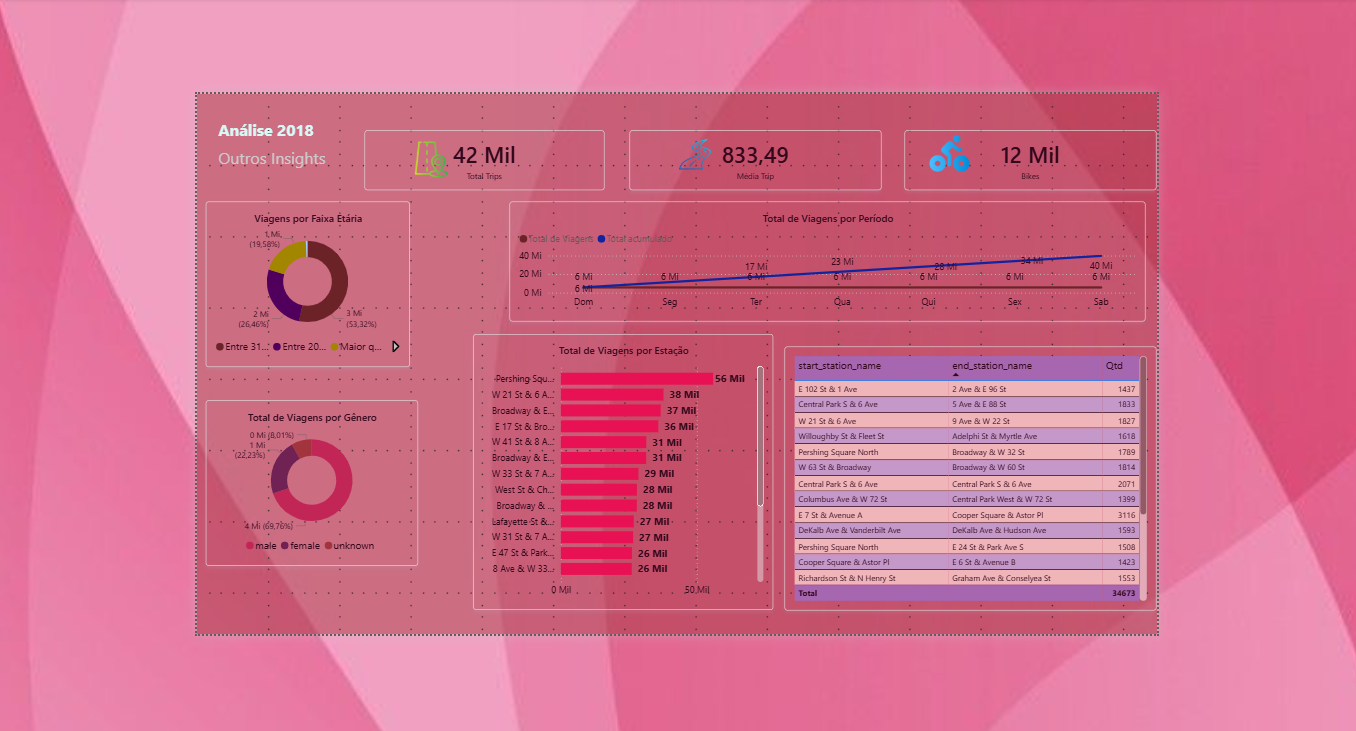

What the dashboard file says about the page in this screenshot:
{"tool":"powerbi","page":{"name":"Análise Controlada","canvas":[1280,720],"ordinal":1},"visuals":[{"type":"card","fields":{"Values":["Medidas.Total Trips"]},"box":[224,48,320,80],"z":0},{"type":"card","fields":{"Values":["Medidas.Média Trip"]},"box":[576,48,336,80],"z":1000},{"type":"card","fields":{"Values":["Medidas.Bikes"]},"box":[944,48,336,80],"z":2000},{"type":"lineChart","title":"Total de Viagens por Período","fields":{"Category":["Pico_DiaSemana_Horario (2).Dia"],"Y":["PerfilUsuarios (2).Total de Viagens","select"]},"box":[416,144,848,160],"z":3000},{"type":"donutChart","title":"Viagens por Faixa Etária","fields":{"Category":["PerfilUsuarios (2).Faixa Etária"],"Y":["PerfilUsuarios (2).Total de Viagens"]},"box":[11.2,143.2,271.7,220.8],"z":4000},{"type":"donutChart","title":"Total de Viagens por Gênero","fields":{"Y":["PerfilUsuarios (2).Total de Viagens"],"Category":["PerfilUsuarios (2).gender"]},"box":[11.2,408.8,282.9,220.8],"z":5000},{"type":"tableEx","fields":{"Values":["FluxoEntreEstações.start_station_name","FluxoEntreEstações.end_station_name","FluxoEntreEstações.Qtd"]},"box":[784,336,496,352],"z":6000},{"type":"textbox","box":[22.6,28.2,271.8,44],"z":7000},{"type":"textbox","box":[22.6,65.4,271.8,44],"z":8000},{"type":"image","box":[288,64,48,48],"z":9000},{"type":"image","box":[640,48,48,64],"z":13000},{"type":"image","box":[973.3,50.7,59.8,58.6],"z":14000},{"type":"clusteredBarChart","title":"Total de Viagens por Estação","fields":{"Category":["TopEstacoesMovimentadas.start_station_name"],"Y":["TopEstacoesMovimentadas.Qtd Viagens"]},"box":[368,320,400,368],"z":16000}]}

Visuals, with their boxes on the page's 1280x720 design canvas (x1, y1, x2, y2). These are canvas units, not pixel positions in the 1356x731 screenshot, which may show the page scaled, cropped or inside an application window:
card - Medidas.Total Trips: bbox(224, 48, 544, 128)
card - Medidas.Média Trip: bbox(576, 48, 912, 128)
card - Medidas.Bikes: bbox(944, 48, 1280, 128)
"Total de Viagens por Período" lineChart: bbox(416, 144, 1264, 304)
"Viagens por Faixa Etária" donutChart: bbox(11, 143, 283, 364)
"Total de Viagens por Gênero" donutChart: bbox(11, 409, 294, 630)
tableEx - FluxoEntreEstações.start_station_name x FluxoEntreEstações.end_station_name: bbox(784, 336, 1280, 688)
textbox: bbox(23, 28, 294, 72)
textbox: bbox(23, 65, 294, 109)
image: bbox(288, 64, 336, 112)
image: bbox(640, 48, 688, 112)
image: bbox(973, 51, 1033, 109)
"Total de Viagens por Estação" clusteredBarChart: bbox(368, 320, 768, 688)
